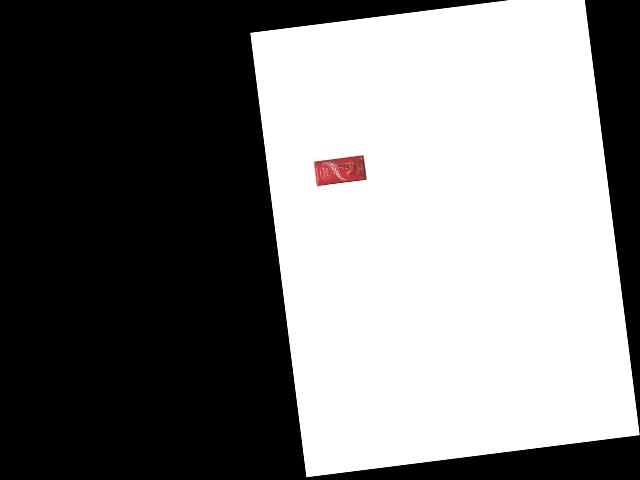chocolate: (312, 153, 370, 187)
